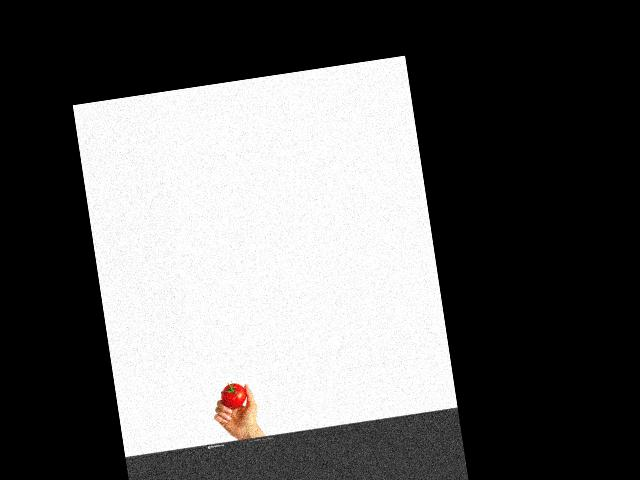tomato: (220, 381, 248, 410)
